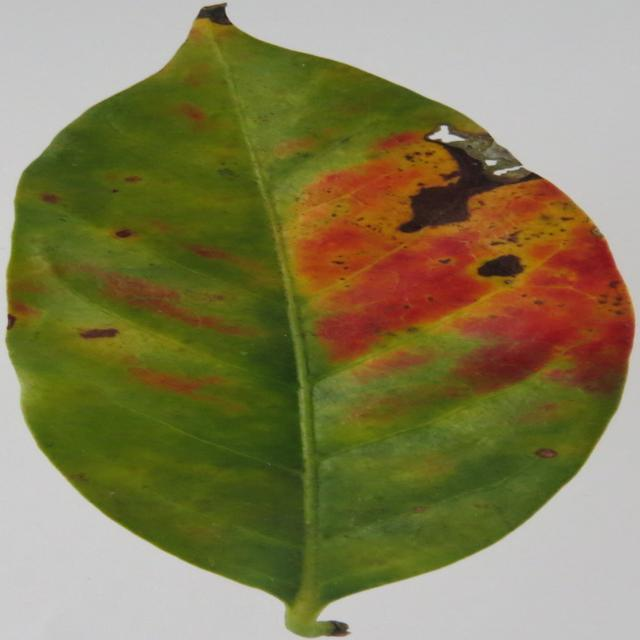DeficienciaNutricional-Fosforo: (8, 5, 631, 637)
